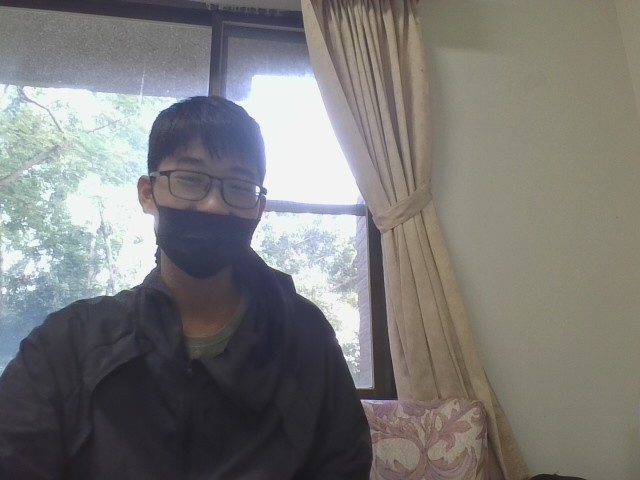No_Helmet: (137, 93, 267, 281)
person: (0, 82, 411, 480)
